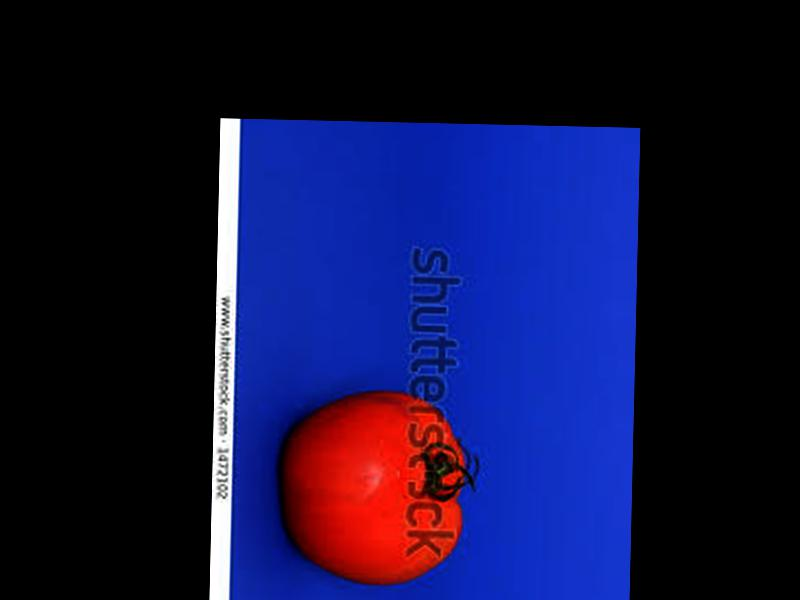Tomato: (280, 391, 468, 590)
